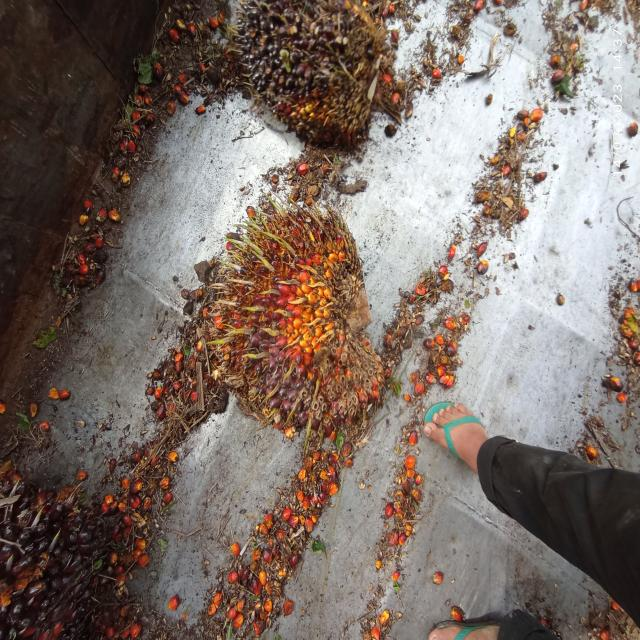fraksi 3: (175, 176, 416, 475)
